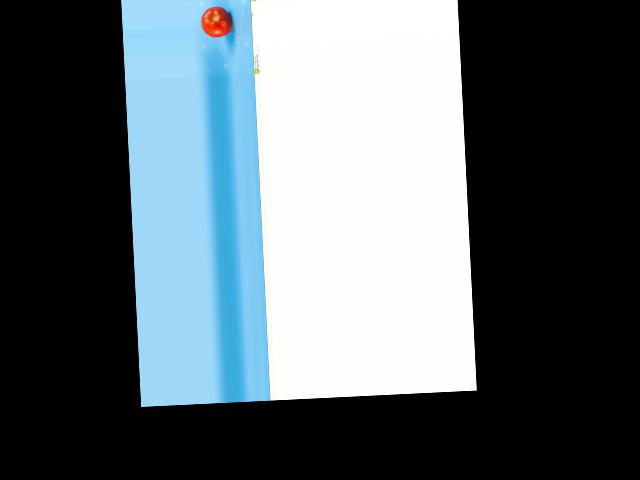tomato: (200, 5, 231, 37)
